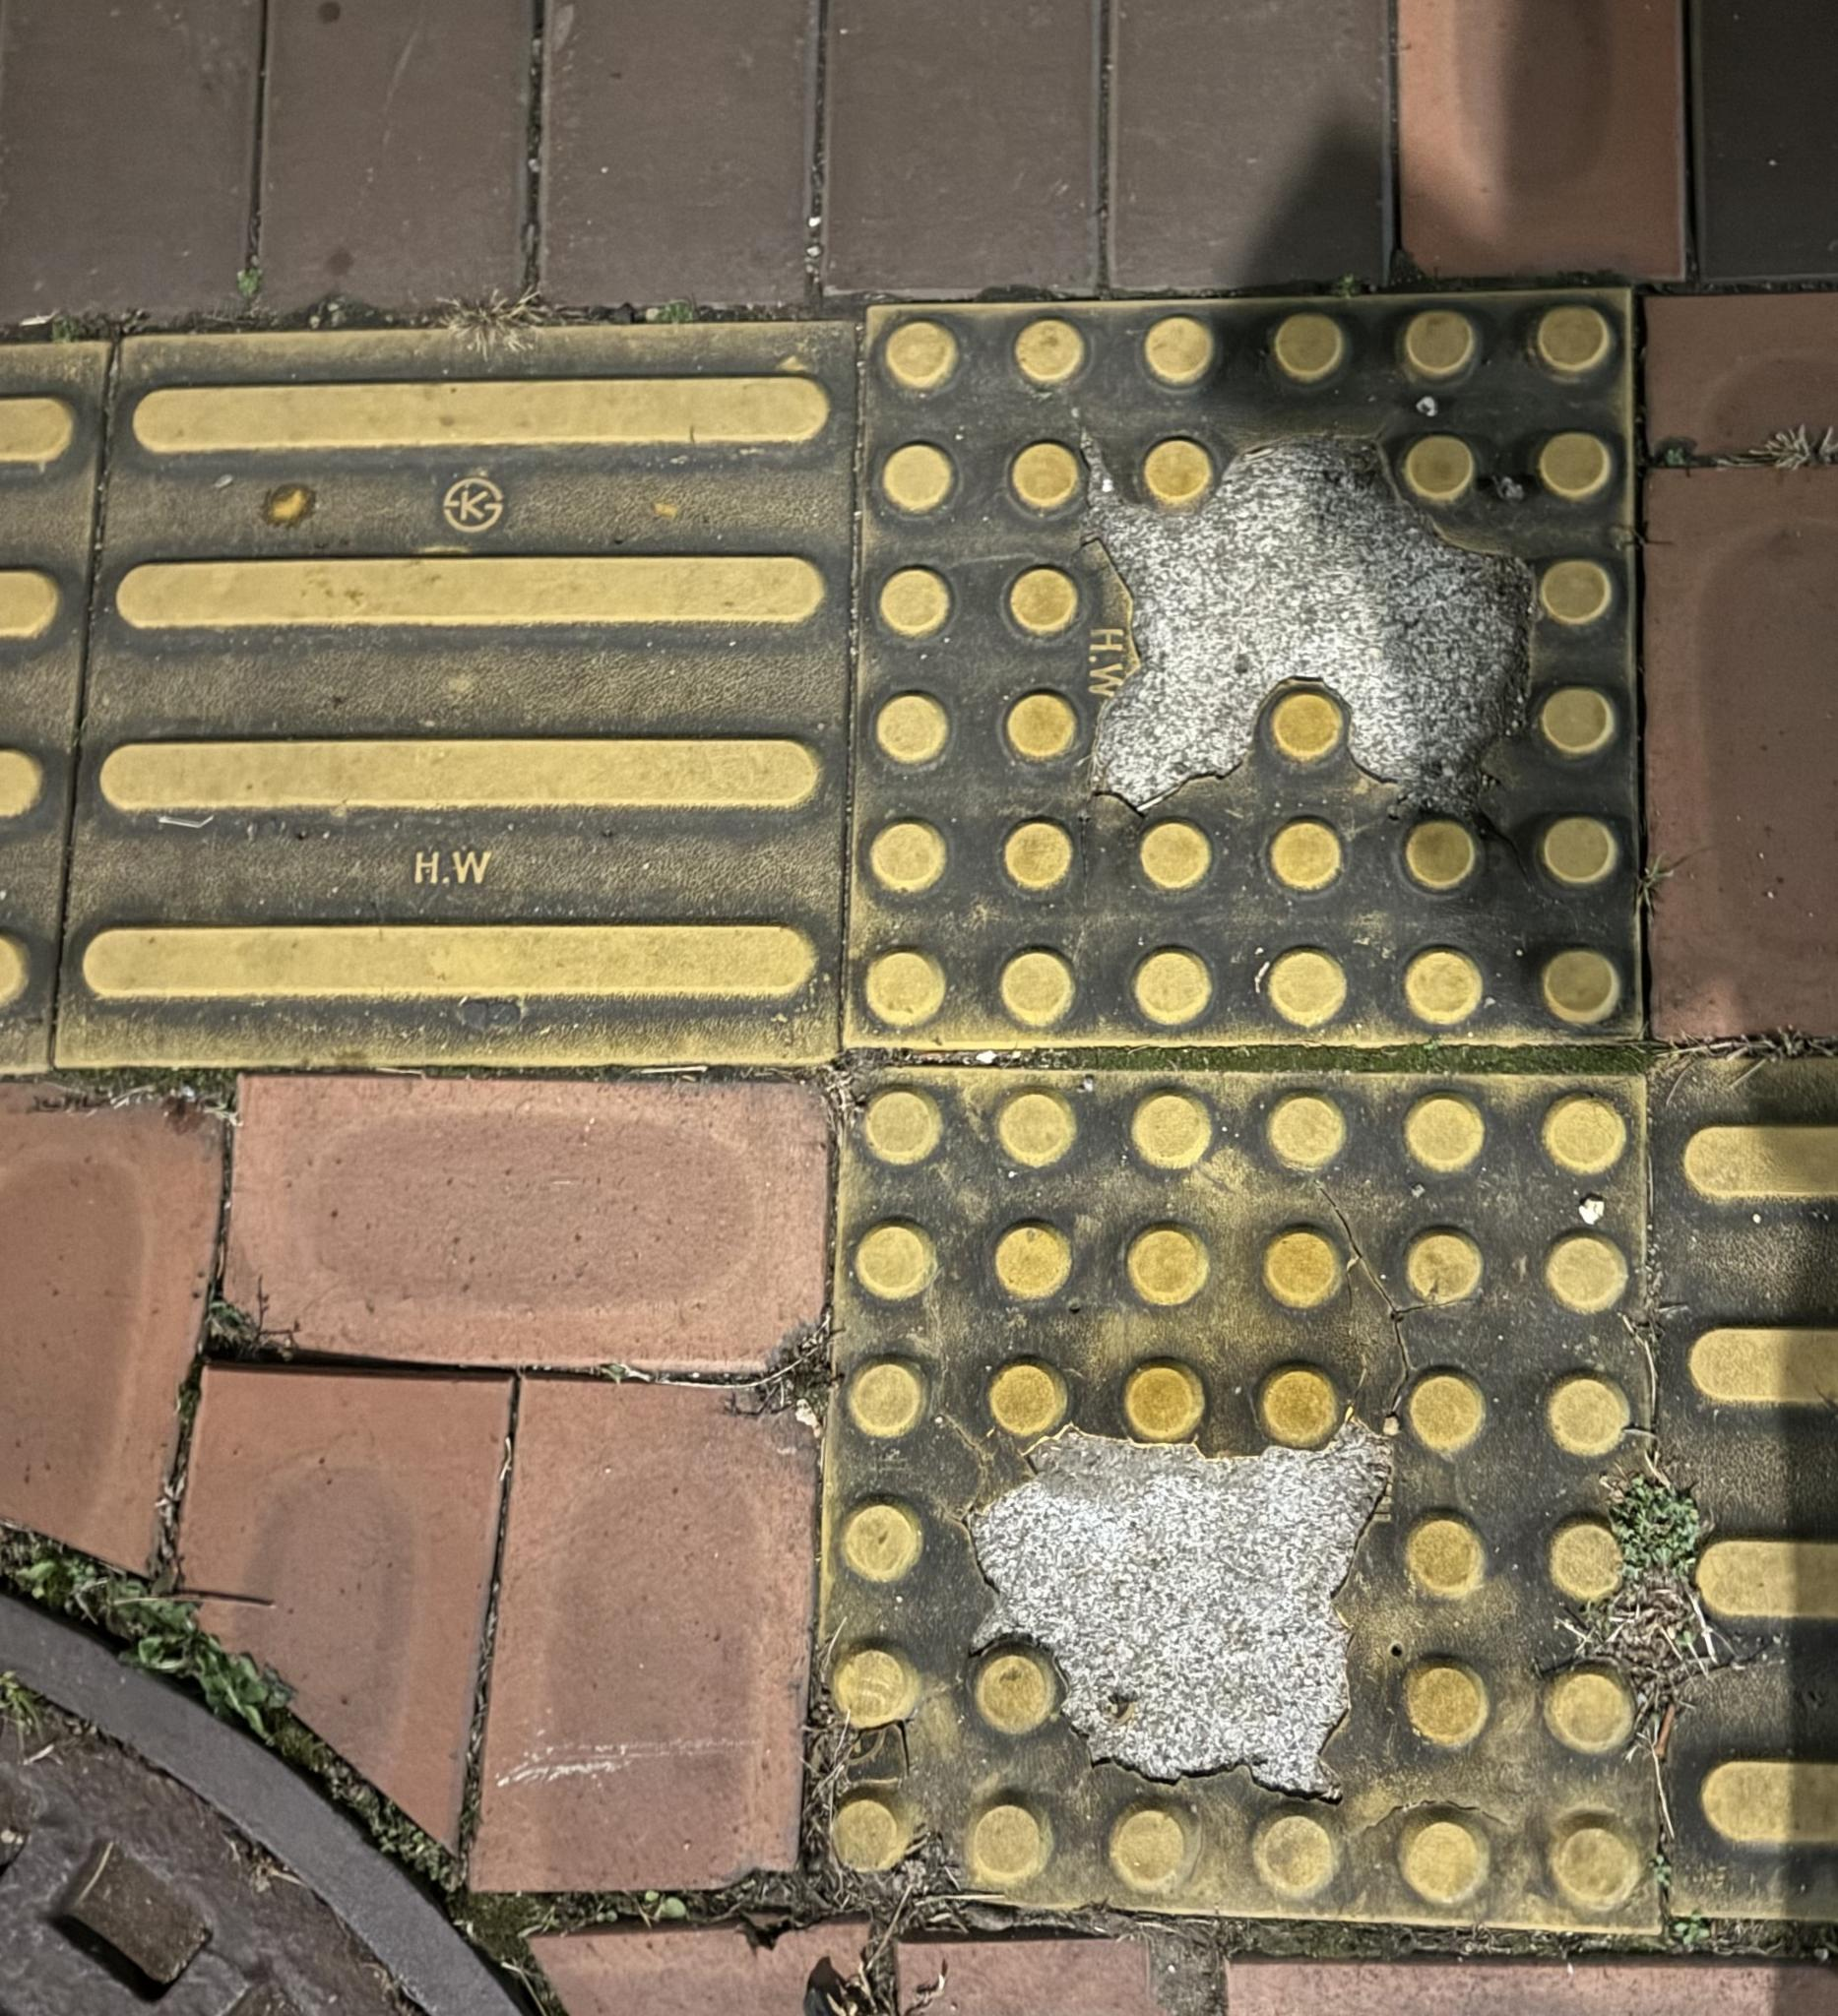Stop block broken: (816, 1073, 1664, 1921), (851, 299, 1643, 1050)
